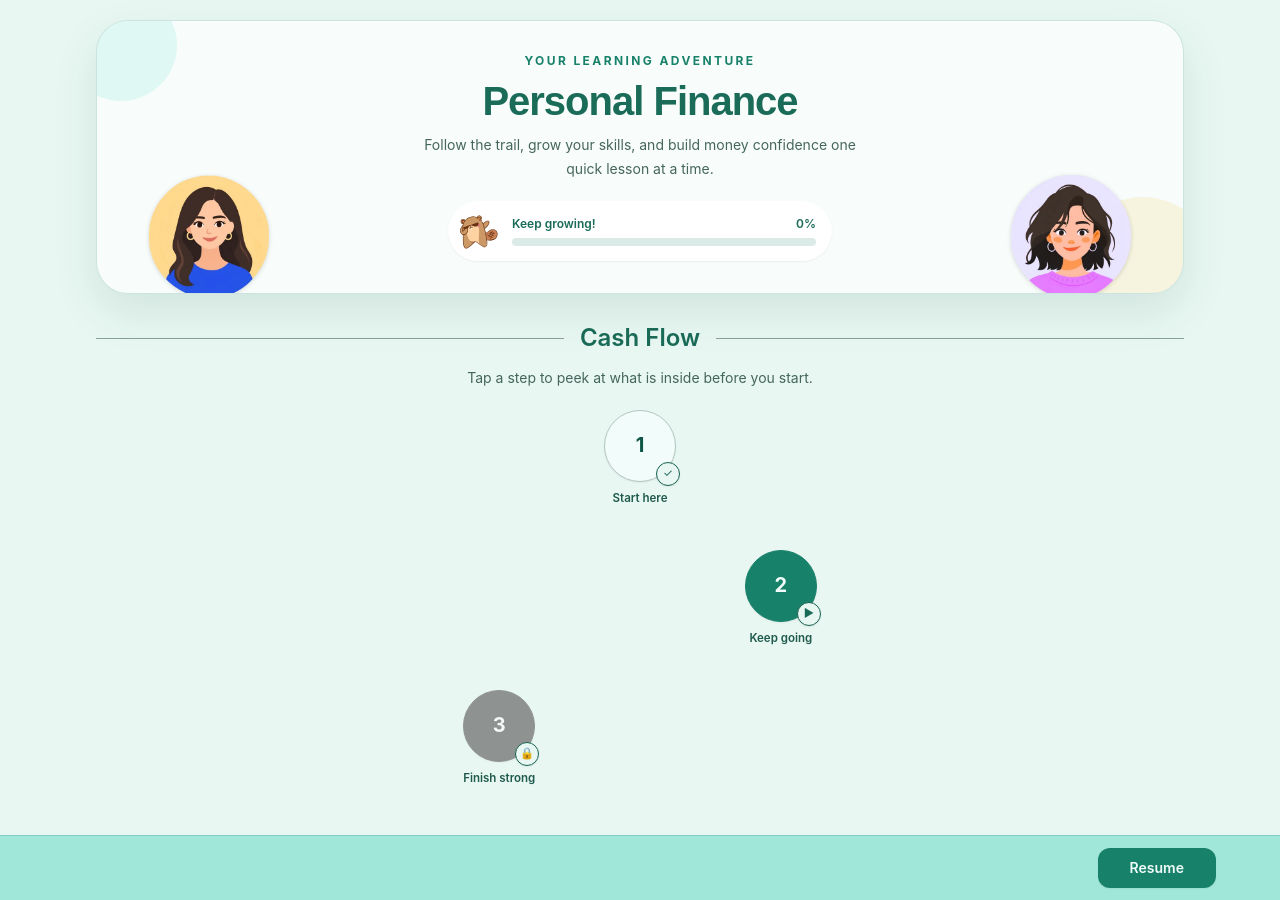
Test: learning path page › explains why a locked step cannot be started yet
Click the button named "Step 3: Finish strong" at (499, 726), box [463,690,535,762]
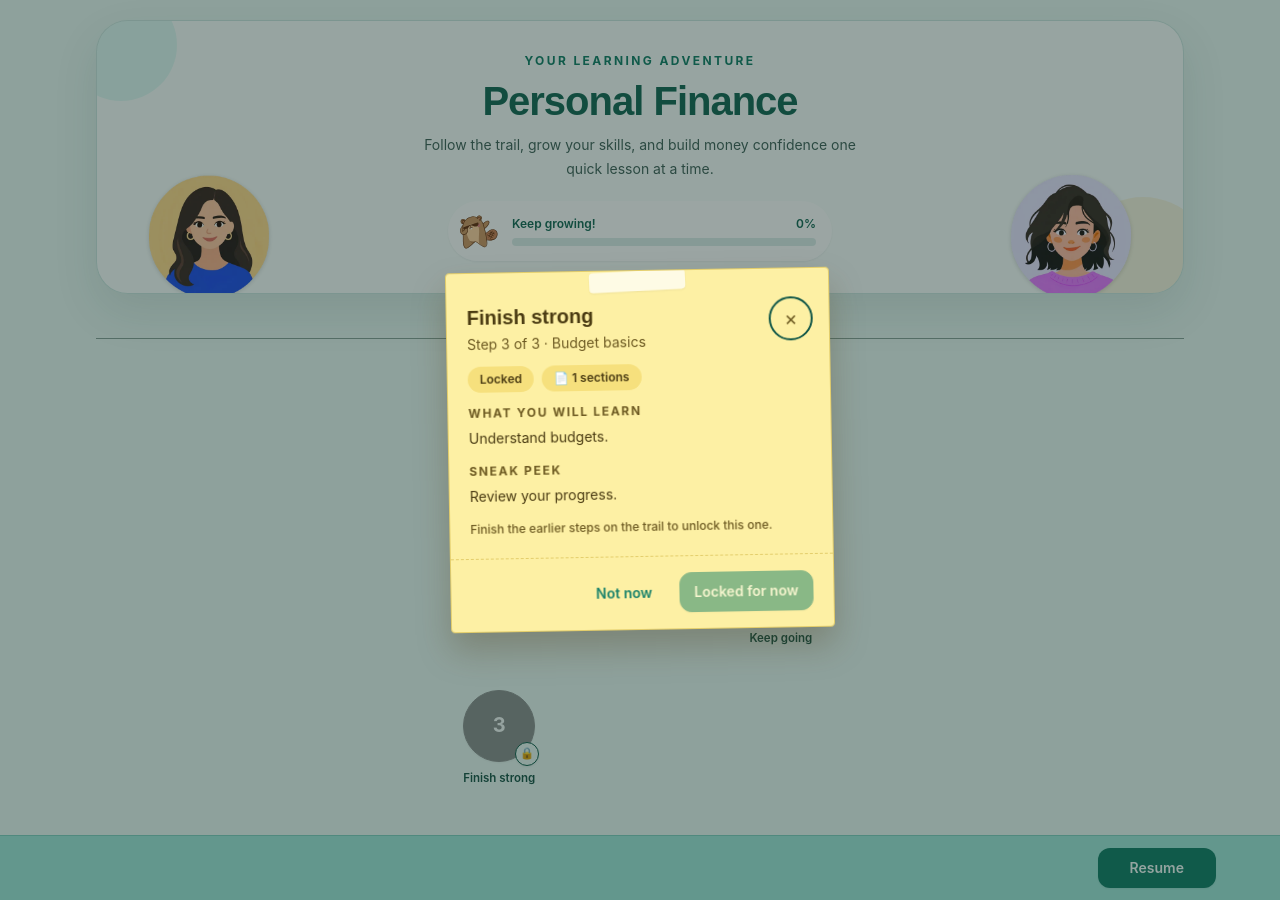
expect the text "Finish the earlier steps on the trail to unlock this one." is shown: met, box [470,515,812,539]
expect the button "Locked for now" is disabled: met, box [679,570,814,612]
